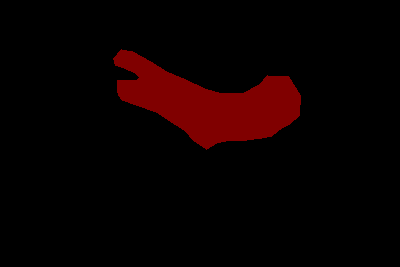fire: (113, 49, 300, 149)
